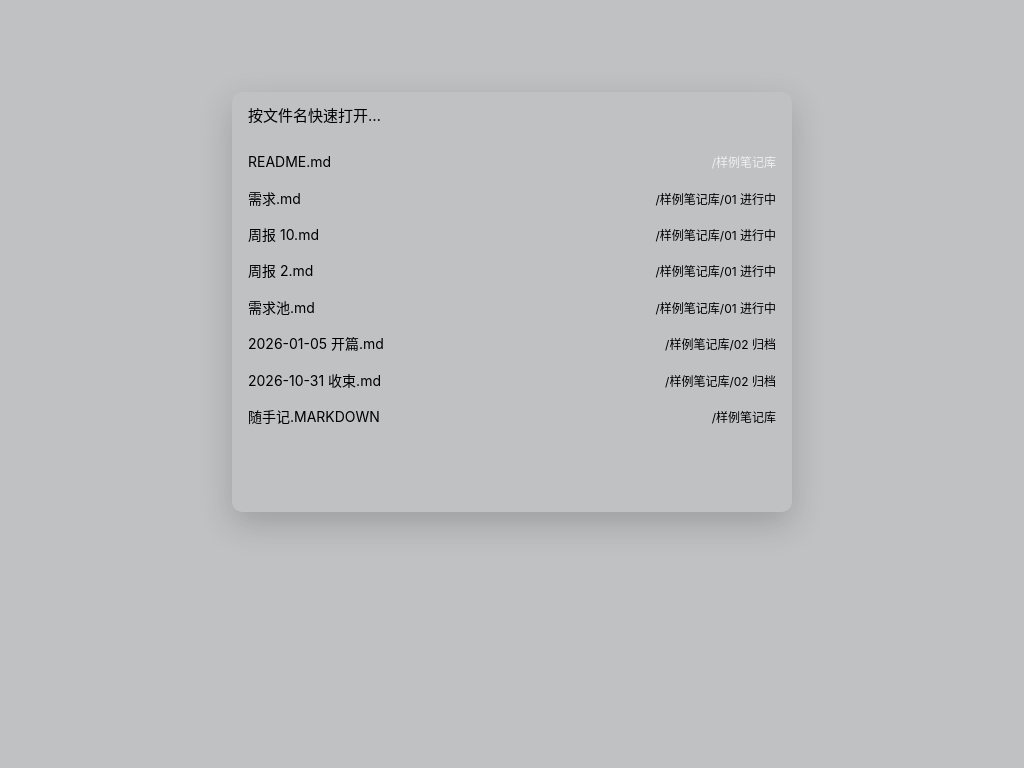
Test: 快速打开面板 › 输入后按文件名过滤
Check: the text "README.md" is shown, box [248,153,331,170]
Type "需求" into the field with placeholder "按文件名快速打开…" at (512, 116), box [232,92,792,140]
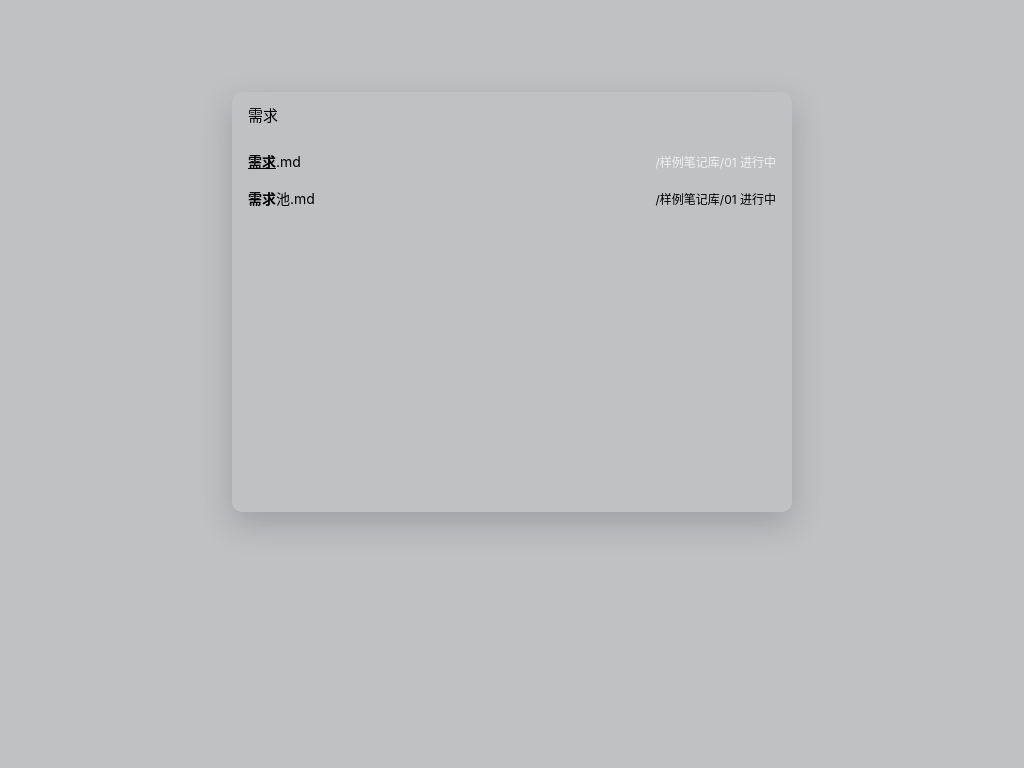
Check: the element showing "需求.md" is shown, box [248,153,301,170]
Check: the button "README.md" no longer shows "README.md"
